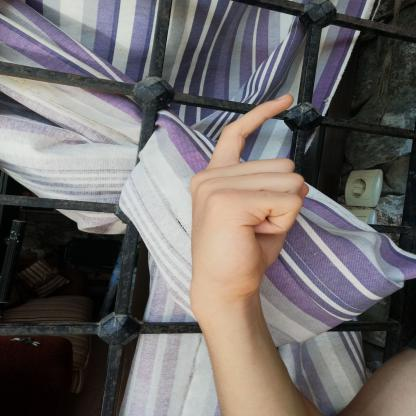RAA: (175, 84, 322, 309)
